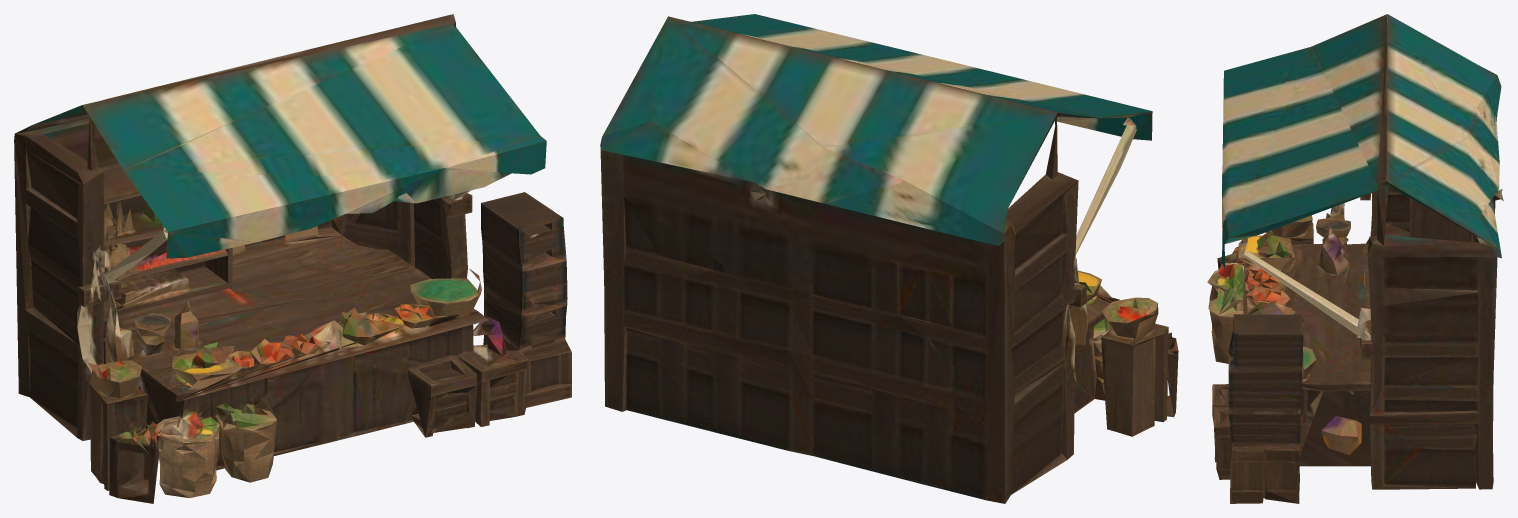
Rendered from marketStall.glb.
3 views of the same model, side by side, from view 1: azimuth 30°, elevation 25°; view 2: azimuth 150°, elevation 25°; view 3: azimuth 270°, elevation 25° (orthographic). The views are drawn at different scales.
Visible parts, largest first — view 1: output_unwrapped; view 2: output_unwrapped; view 3: output_unwrapped.
Boxes of the visible parts, x1,y1,x2,y2 form: output_unwrapped: [14, 14, 571, 503]; output_unwrapped: [600, 14, 1178, 503]; output_unwrapped: [1207, 14, 1503, 503].
Size of the model in its own units: 1.89 by 1.33 by 1.16.
Materials: 1 (1 with a texture image).
